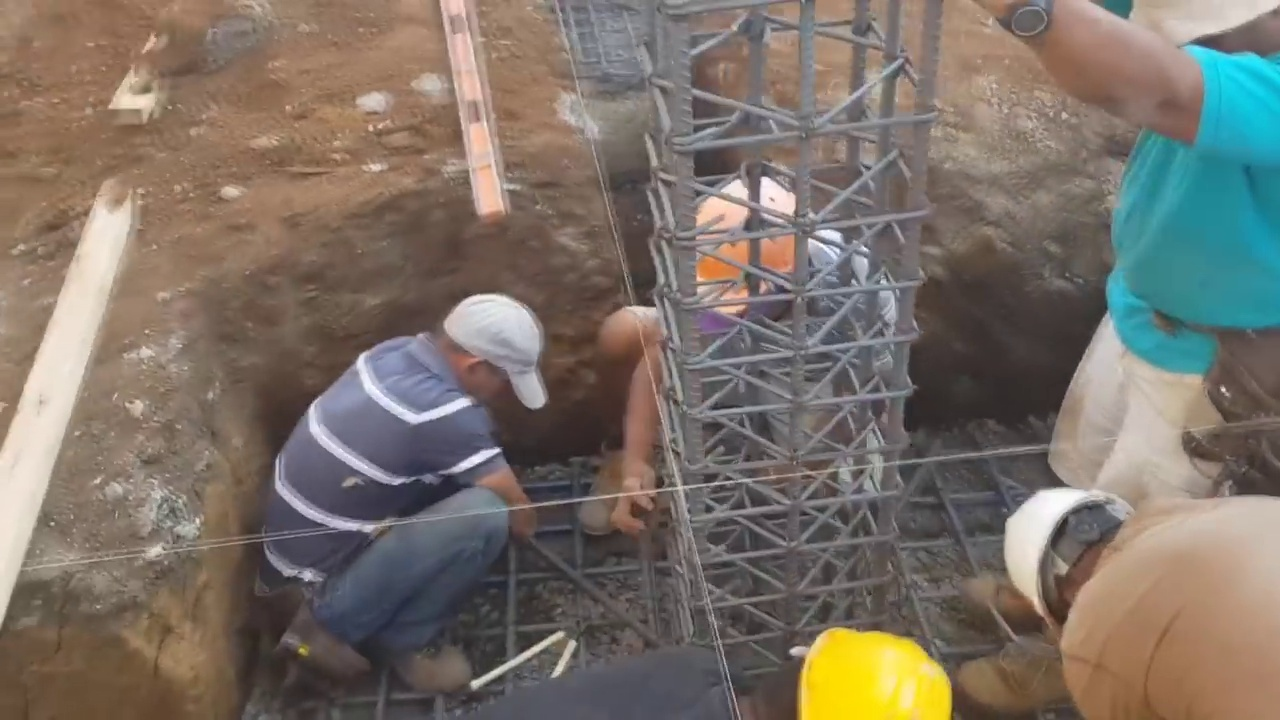helmet: (676, 168, 818, 314), (1006, 491, 1127, 623), (792, 633, 958, 719)
helmet-off: (433, 298, 545, 418)
helmet-on: (673, 161, 838, 333), (1008, 470, 1158, 639), (721, 624, 958, 714)
person: (972, 0, 1280, 499), (577, 168, 921, 538), (251, 300, 548, 702), (1004, 472, 1280, 716), (466, 622, 961, 718)
